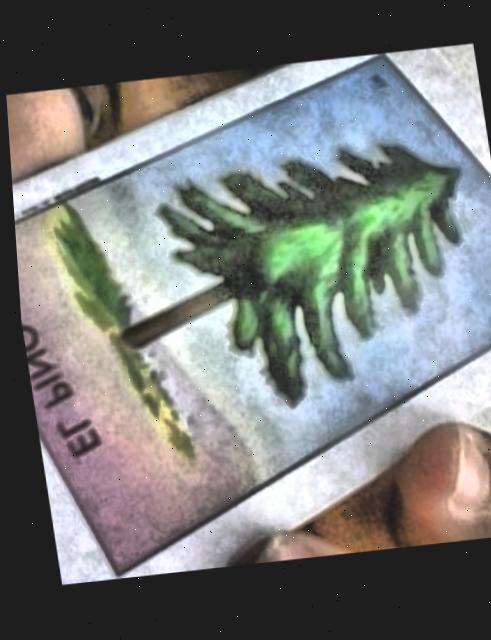El Pino: (11, 57, 491, 575)
